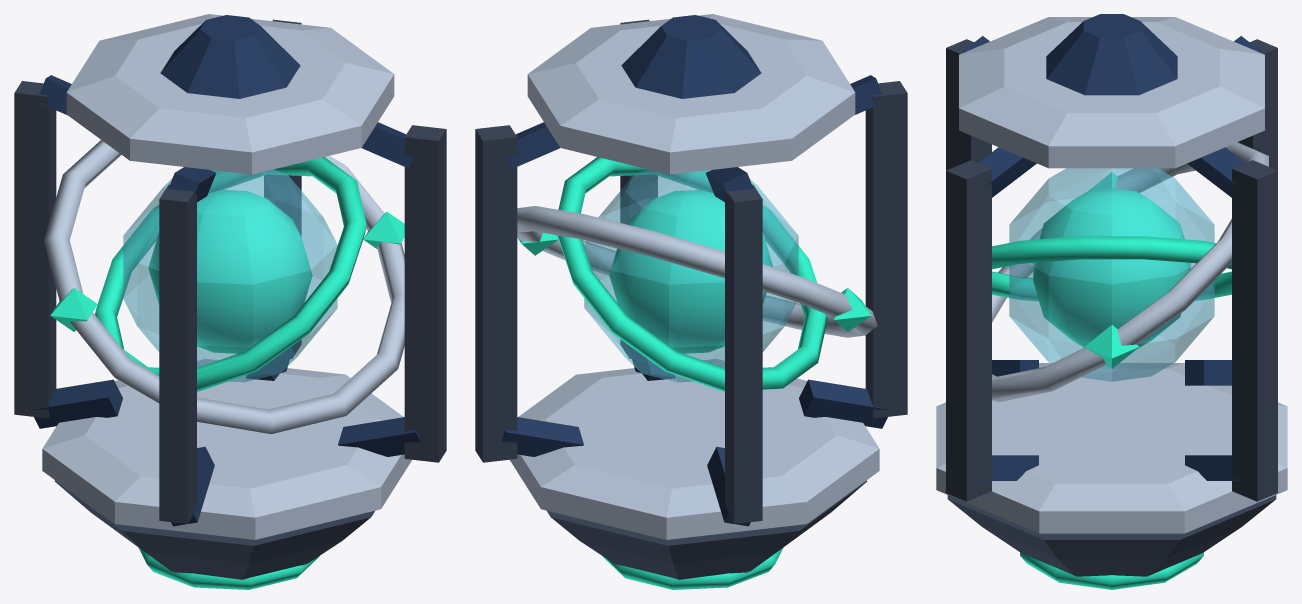
The model's file is AirProp_OutputReactorCore.obj.
3 views of the same model, side by side, from view 1: azimuth 30°, elevation 25°; view 2: azimuth 150°, elevation 25°; view 3: azimuth 270°, elevation 25° (orthographic).
Visible parts, largest first — view 1: Reactor_Cage, Reactor_ShieldGlass, Reactor_GyroRingA, Reactor_PlasmaCore, Reactor_GyroRingB; view 2: Reactor_Cage, Reactor_ShieldGlass, Reactor_PlasmaCore, Reactor_GyroRingA, Reactor_GyroRingB; view 3: Reactor_Cage, Reactor_ShieldGlass, Reactor_PlasmaCore, Reactor_GyroRingA, Reactor_GyroRingB.
Part boxes in pixels (<box>): Reactor_Cage: <box>14,14,446,589</box>; Reactor_ShieldGlass: <box>123,169,337,382</box>; Reactor_GyroRingA: <box>44,140,404,434</box>; Reactor_PlasmaCore: <box>148,190,312,353</box>; Reactor_GyroRingB: <box>95,157,366,391</box>; Reactor_Cage: <box>475,14,907,589</box>; Reactor_ShieldGlass: <box>584,169,798,382</box>; Reactor_PlasmaCore: <box>609,190,772,353</box>; Reactor_GyroRingA: <box>517,206,877,337</box>; Reactor_GyroRingB: <box>557,157,827,391</box>; Reactor_Cage: <box>936,14,1287,589</box>; Reactor_ShieldGlass: <box>1009,168,1214,381</box>; Reactor_PlasmaCore: <box>1033,188,1190,348</box>; Reactor_GyroRingA: <box>992,142,1268,401</box>; Reactor_GyroRingB: <box>992,236,1231,301</box>.
Size of the model in its own units: 0.68 by 0.97 by 0.5728.
